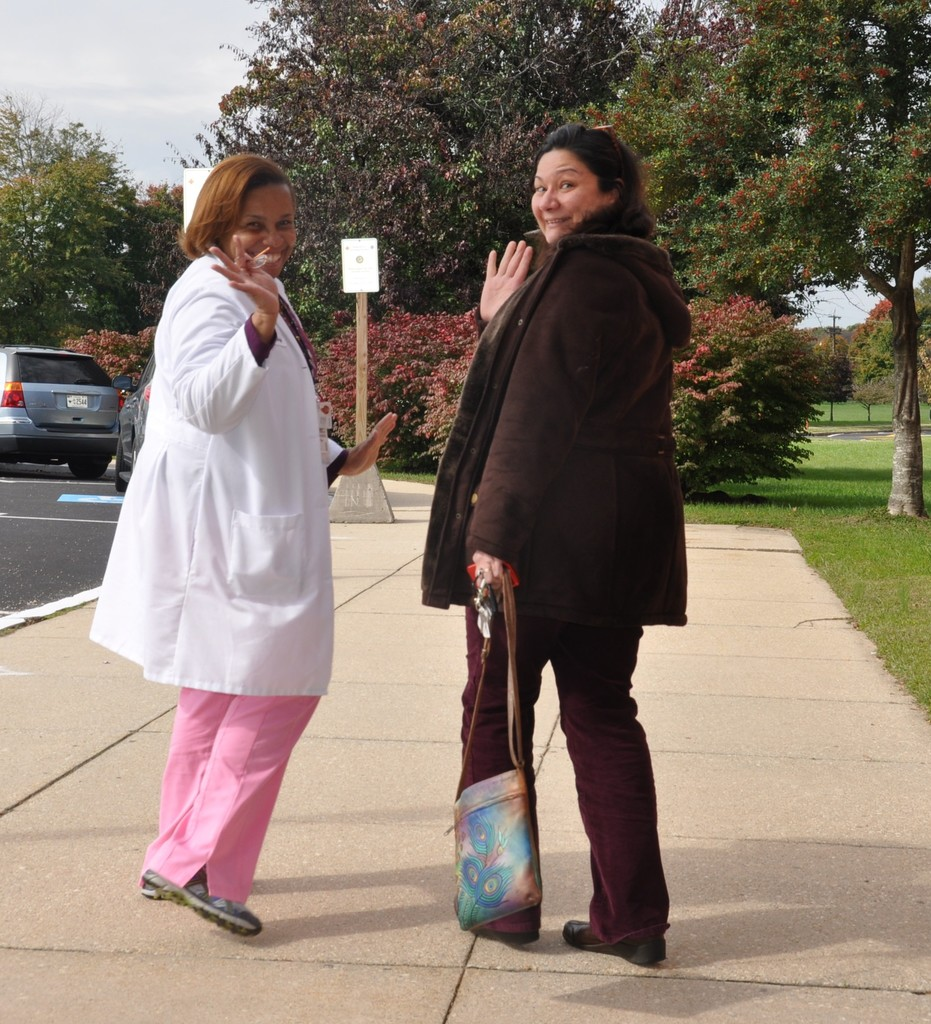Car: (8, 337, 124, 462)
